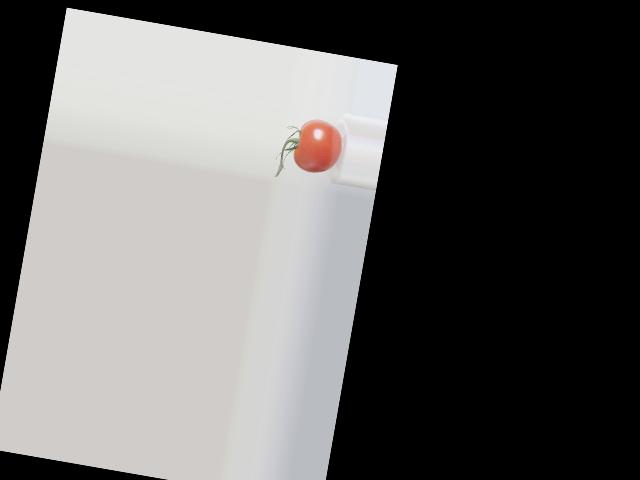tomato: (291, 116, 345, 177)
